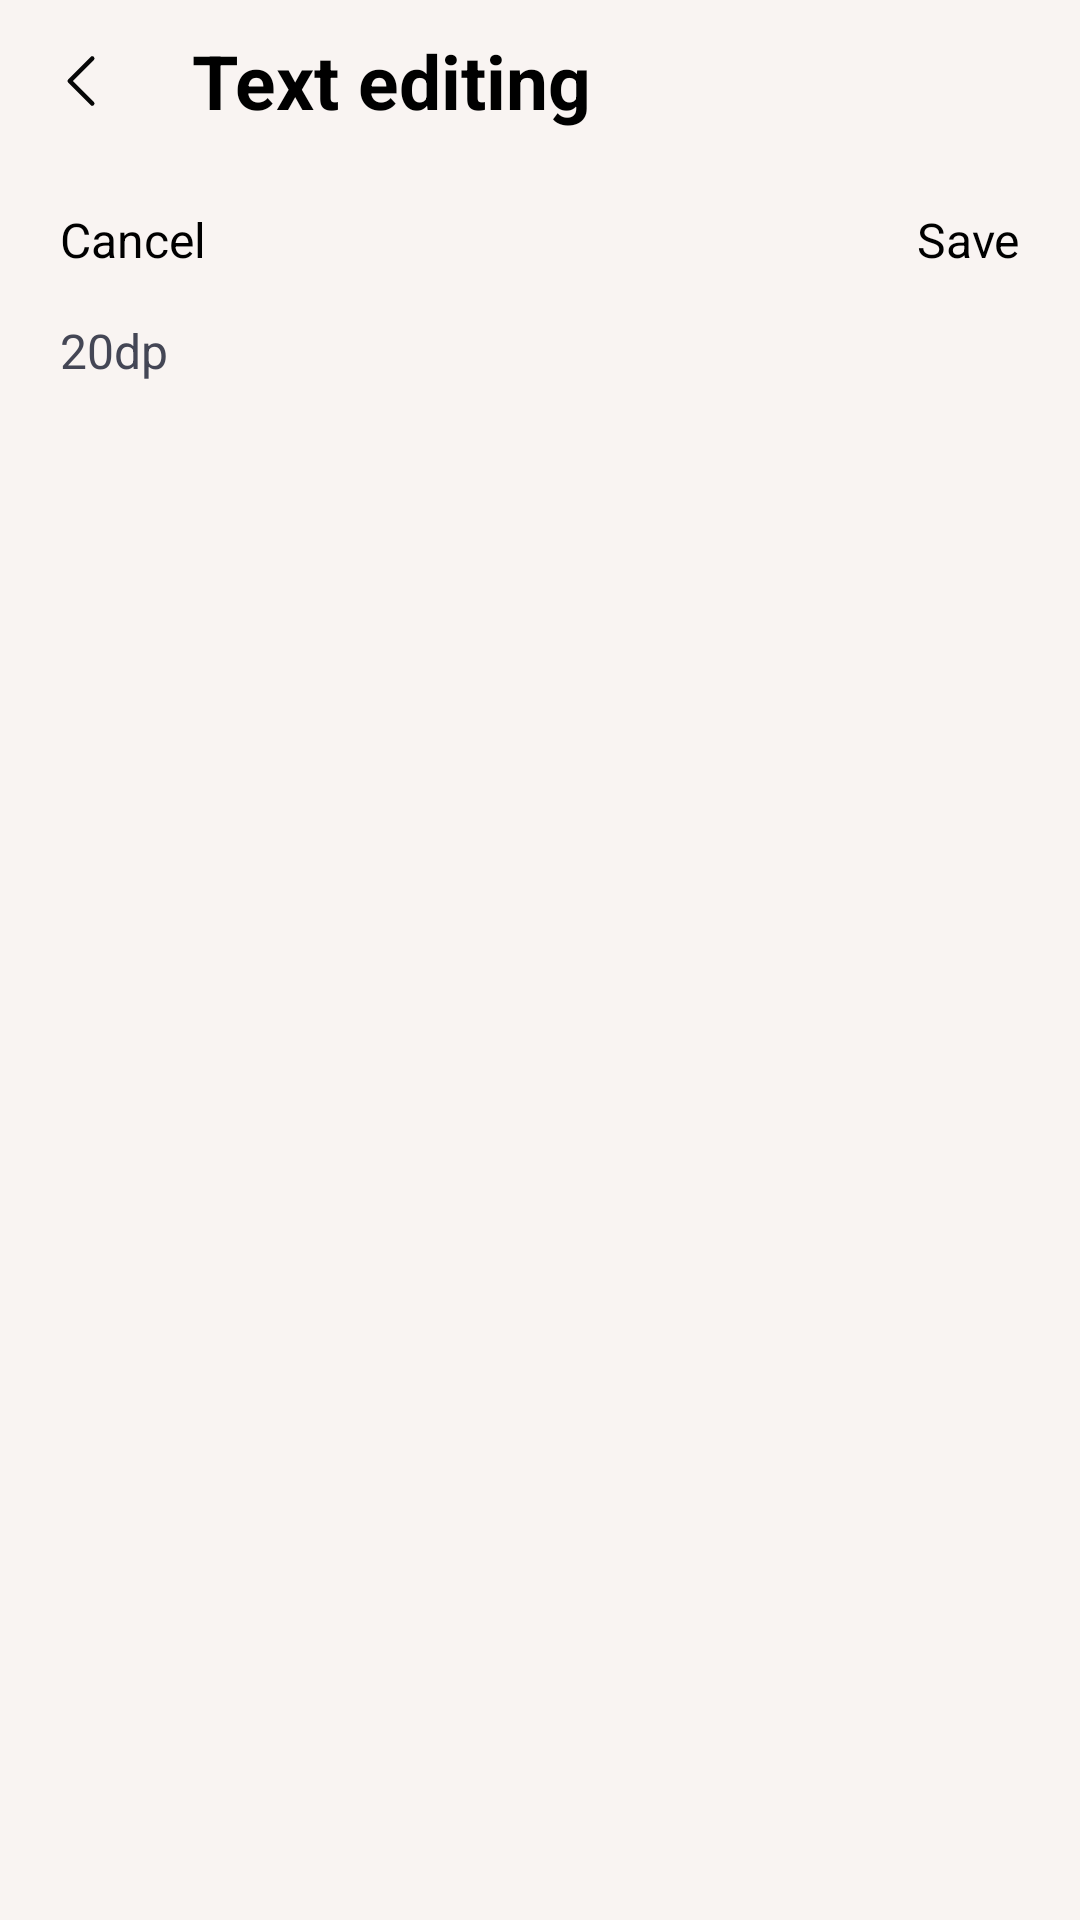

Screen size 1080px x 1920px. Icon name, then its box in pixels as region(x1, y1, x2, y2):
back: region(67, 56, 95, 106)
